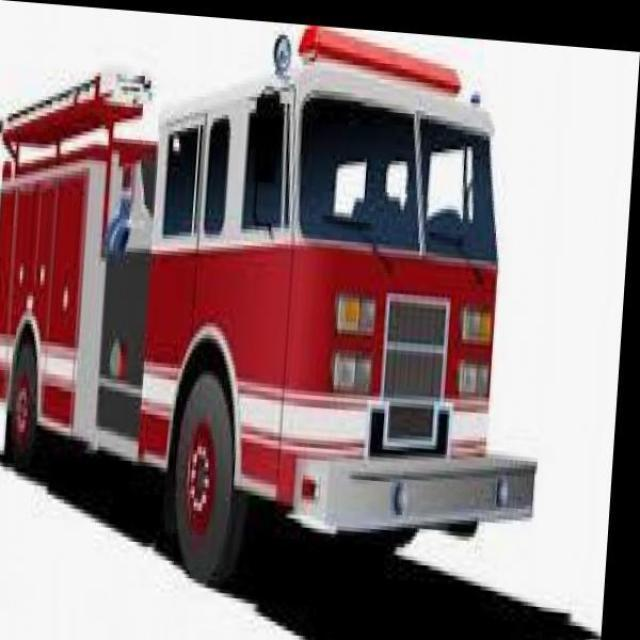emergency: (0, 22, 538, 586)
